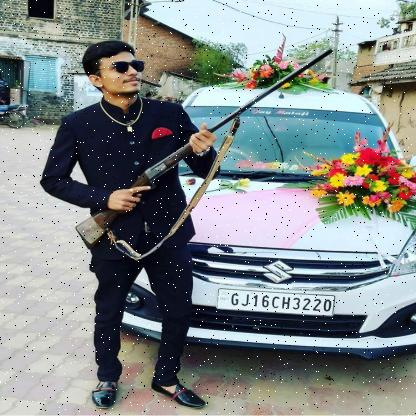rifle: (73, 46, 338, 252)
